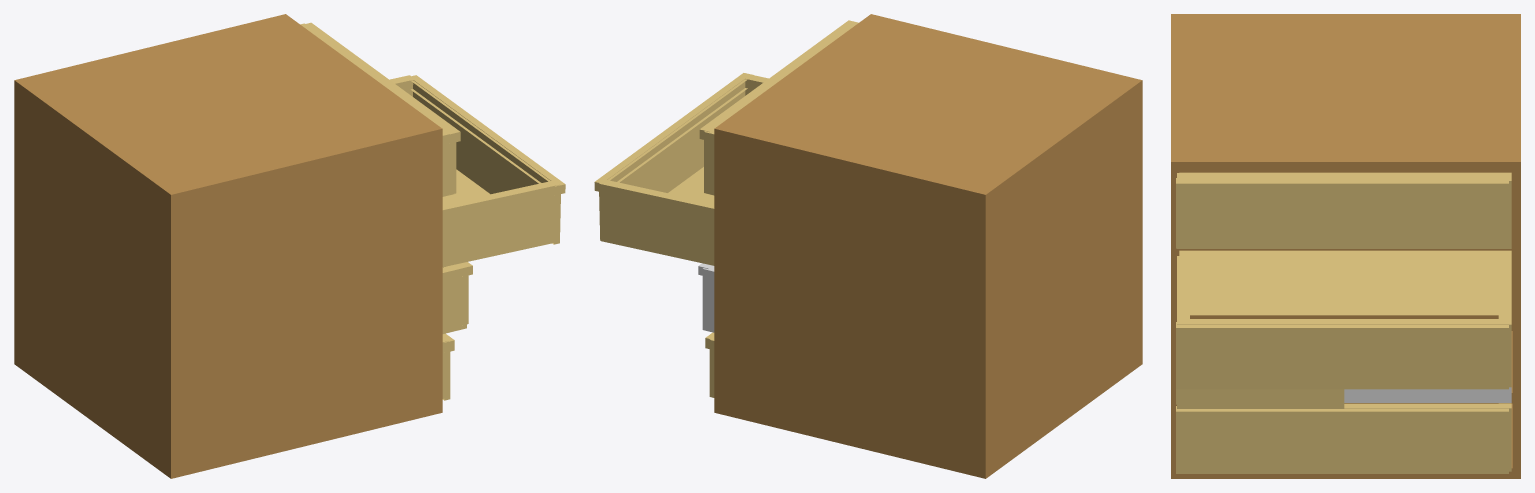
The picture shows the model from 3 angles, left to right: view 1: azimuth 30°, elevation 25°; view 2: azimuth 150°, elevation 25°; view 3: azimuth 270°, elevation 25°; orthographic projection. The views are drawn at different scales.
Visible parts, largest first — view 1: Cajonera, Cajon2, Cajon1, Cajon3, Cajon4; view 2: Cajonera, Cajon2, Cajon1, cajon3.1; view 3: Cajonera, Cajon2, Cajon1, Cajon4, Cajon3, cajon3.1.
Part boxes in pixels (left/top/right/bottom): Cajonera: left=14, top=14, right=442, bottom=478; Cajon2: left=390, top=75, right=565, bottom=266; Cajon1: left=300, top=22, right=460, bottom=196; Cajon3: left=442, top=262, right=472, bottom=333; Cajon4: left=442, top=333, right=454, bottom=400; Cajonera: left=714, top=14, right=1142, bottom=478; Cajon2: left=594, top=73, right=768, bottom=265; Cajon1: left=699, top=20, right=858, bottom=195; cajon3.1: left=698, top=263, right=714, bottom=332; Cajonera: left=1171, top=14, right=1520, bottom=478; Cajon2: left=1176, top=250, right=1511, bottom=389; Cajon1: left=1176, top=172, right=1511, bottom=248; Cajon4: left=1176, top=403, right=1511, bottom=473; Cajon3: left=1176, top=389, right=1344, bottom=408; cajon3.1: left=1344, top=387, right=1511, bottom=402.
Bounding box in the file's own units: 292 × 200 × 200.
